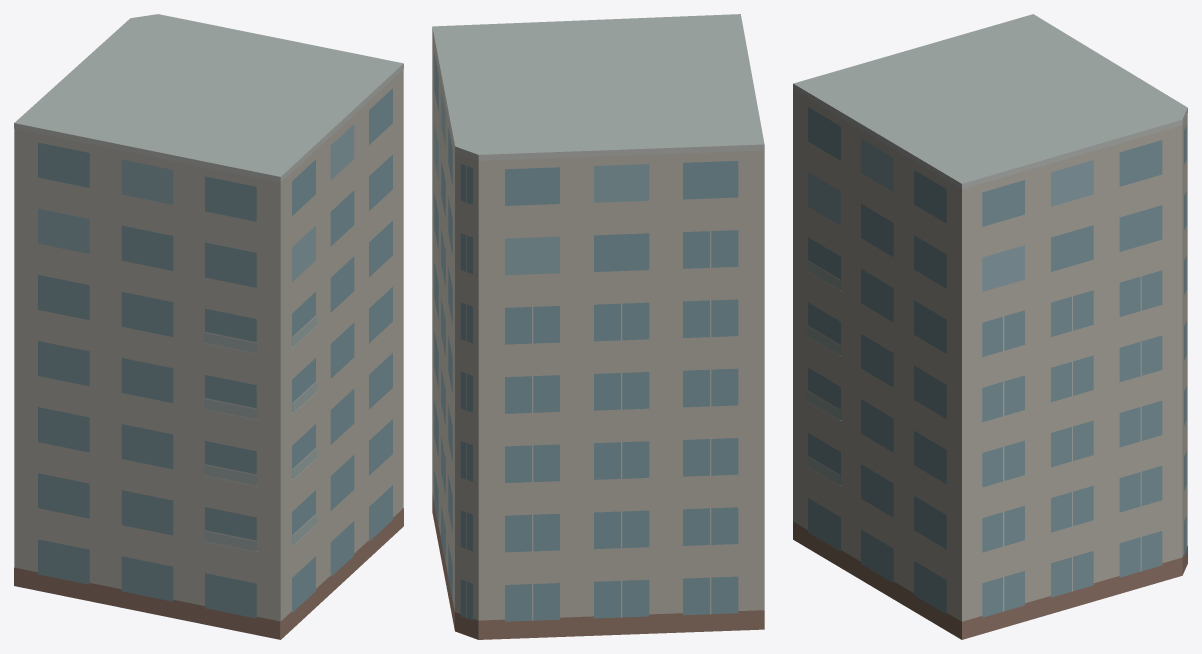
Rendered from survey-upis-33046146.glb.
3 renders of one model, left to right at view 1: azimuth 30°, elevation 25°; view 2: azimuth 150°, elevation 25°; view 3: azimuth 270°, elevation 25°, orthographic. The views are drawn at different scales.
Parts seen in each view (by area): view 1: survey-upis-33046146.tmp; view 2: survey-upis-33046146.tmp; view 3: survey-upis-33046146.tmp.
Boxes of the visible parts, bbox=[...] form: survey-upis-33046146.tmp: bbox=[14, 14, 403, 639]; survey-upis-33046146.tmp: bbox=[432, 14, 764, 639]; survey-upis-33046146.tmp: bbox=[793, 14, 1187, 639].
Bounding box in the file's own units: 15.99 × 20 × 15.7.
